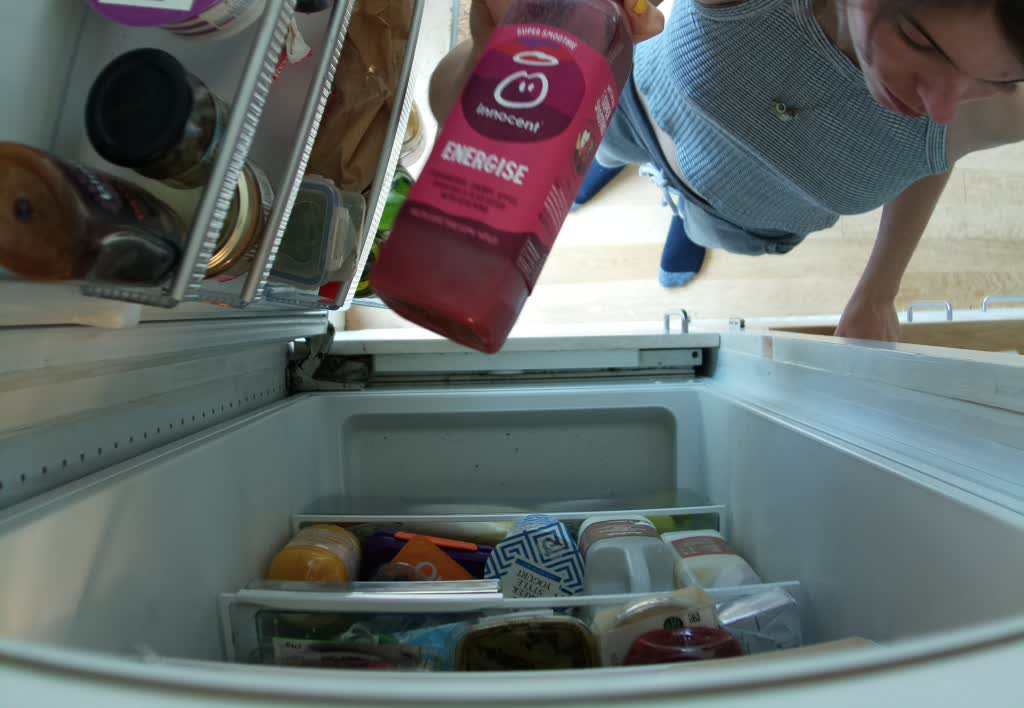juice: (375, 1, 640, 354)
